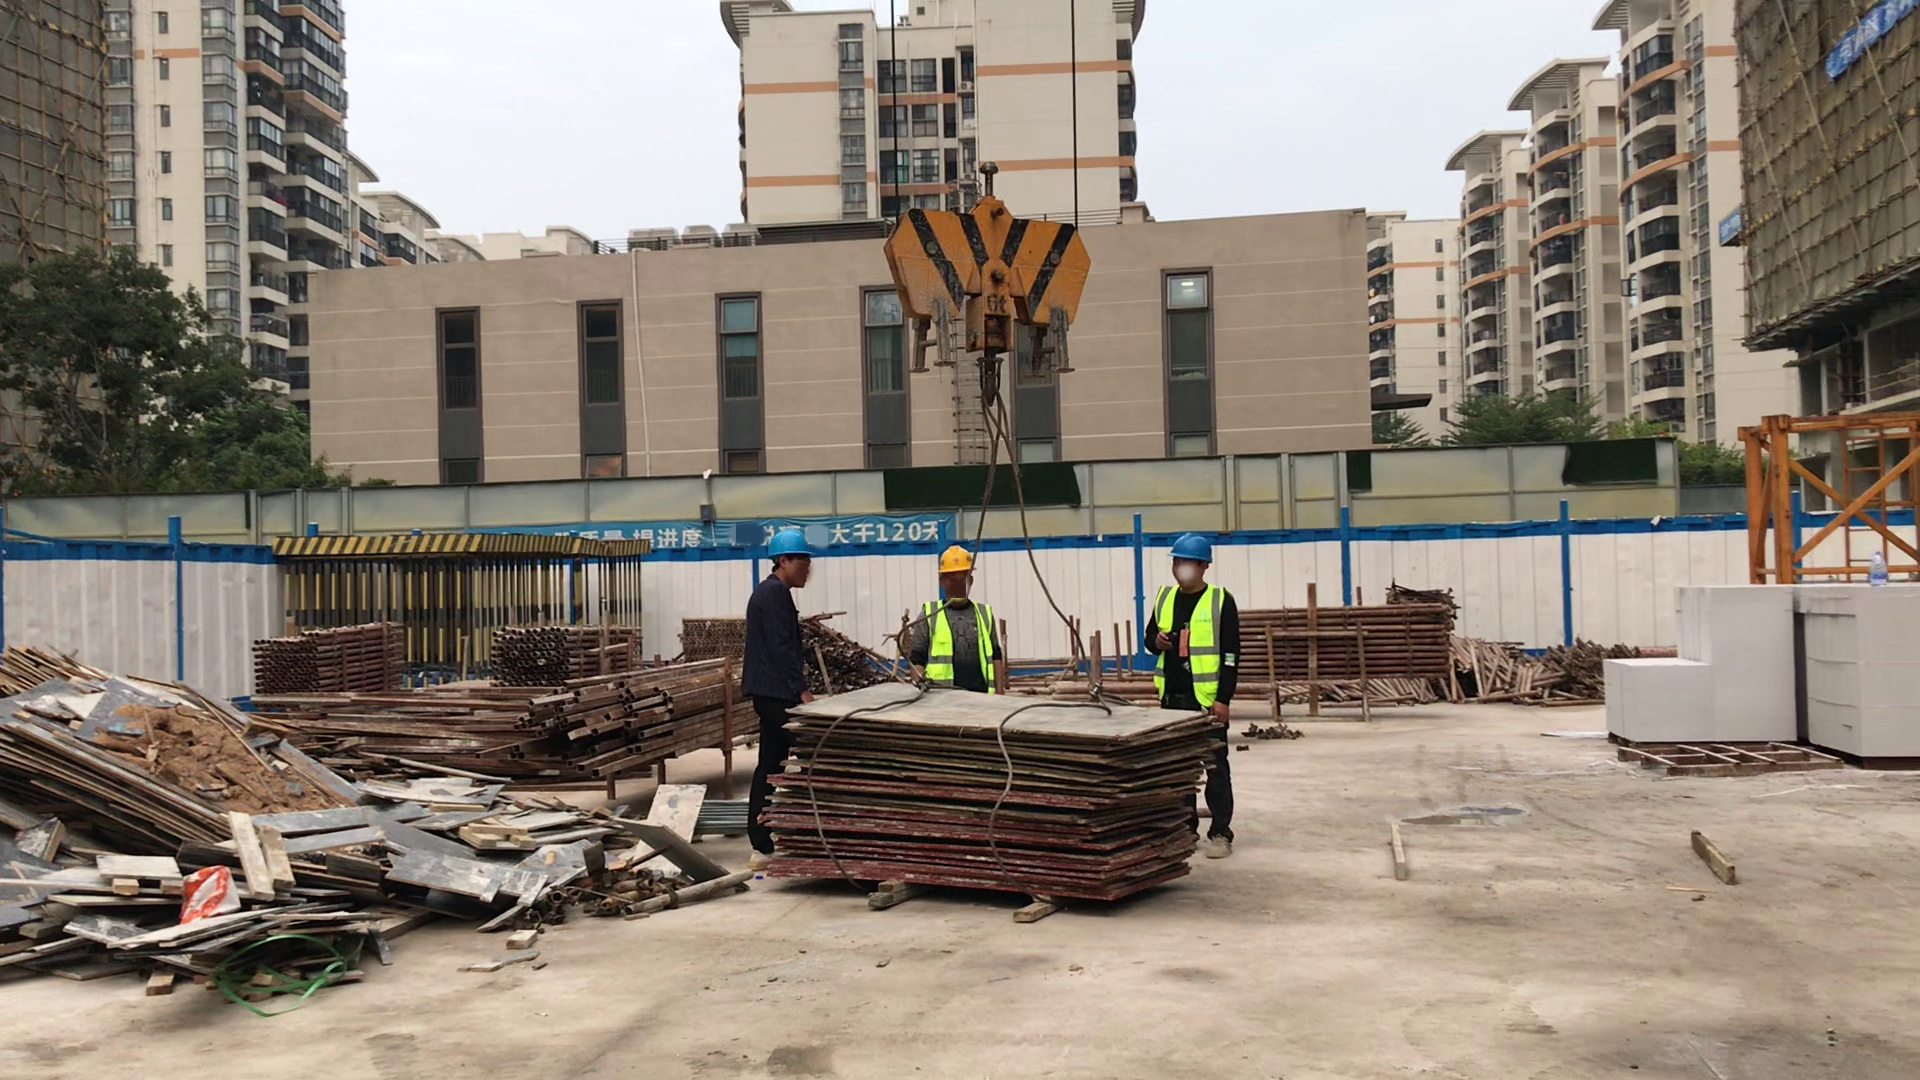board: (762, 676, 1231, 925)
helmet: (1167, 532, 1214, 564), (764, 528, 812, 557), (935, 546, 974, 573)
hook: (873, 199, 1092, 403)
person: (1147, 537, 1266, 854), (744, 528, 808, 871), (891, 545, 1019, 689)
scaffold: (1239, 604, 1450, 682), (246, 619, 413, 693), (487, 613, 637, 671), (680, 613, 746, 659)
slogan: (561, 513, 947, 545), (1831, 1, 1913, 73)
vest: (1155, 585, 1223, 707), (923, 600, 999, 699)
wood: (1595, 583, 1920, 765)
